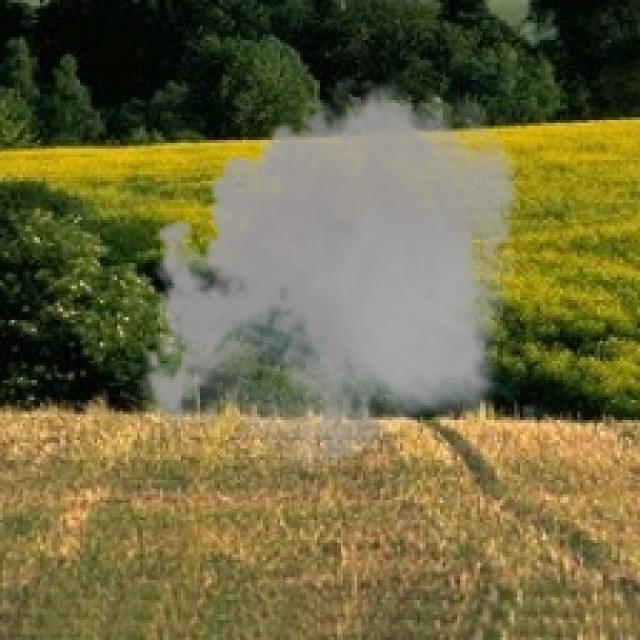Smoke: (132, 68, 532, 486)
